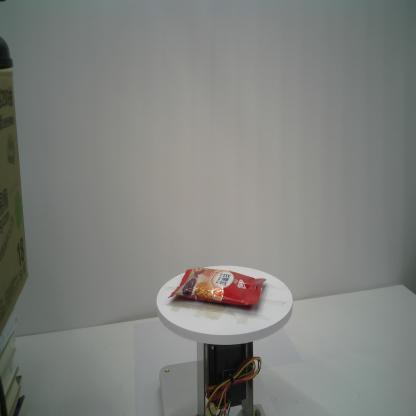Instant Drink: (167, 266, 267, 310)
